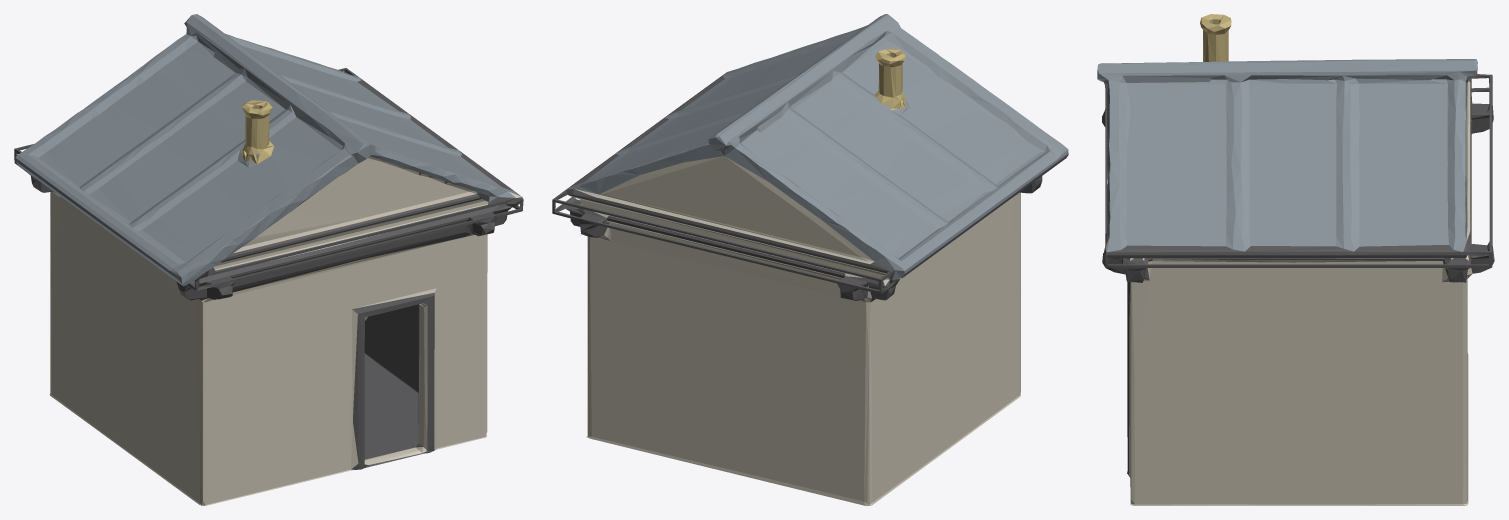
The picture shows the model from 3 angles, left to right: view 1: azimuth 30°, elevation 25°; view 2: azimuth 150°, elevation 25°; view 3: azimuth 270°, elevation 25°; orthographic projection. The views are drawn at different scales.
Visible parts, largest first — view 1: geometry_0; view 2: geometry_0; view 3: geometry_0.
Part boxes in pixels (bbox=[...]): geometry_0: bbox=[14, 14, 523, 505]; geometry_0: bbox=[552, 14, 1068, 505]; geometry_0: bbox=[1097, 14, 1494, 505].
Bounding box in the file's own units: 0.9531 × 0.9279 × 0.8702.
